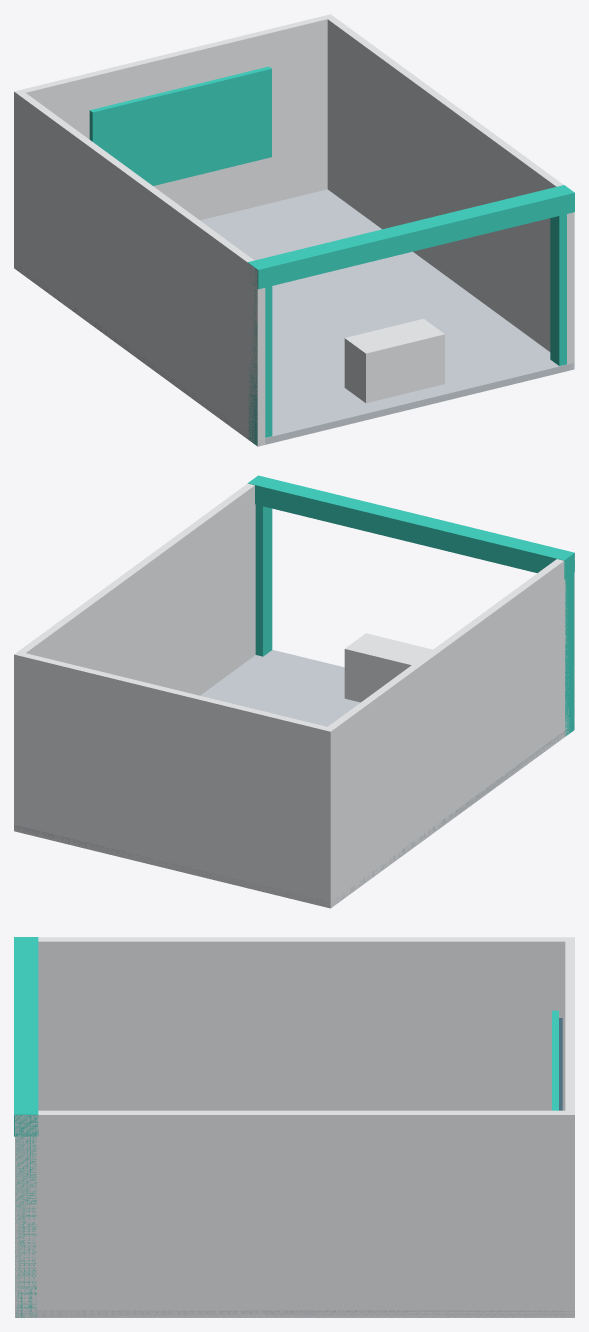
The picture shows the model from 3 angles, top to bottom: view 1: azimuth 30°, elevation 25°; view 2: azimuth 150°, elevation 25°; view 3: azimuth 270°, elevation 25°; orthographic projection. The views are drawn at different scales.
Parts seen in each view (by area): view 1: Exhibition Booth Concept; view 2: Exhibition Booth Concept; view 3: Exhibition Booth Concept.
Boxes of the visible parts, box(x1,y1,x2,y2) form: Exhibition Booth Concept: box(14, 14, 574, 446); Exhibition Booth Concept: box(14, 475, 574, 908); Exhibition Booth Concept: box(14, 937, 574, 1317).
Size of the model in its own units: 6 by 3.2 by 8.01.
